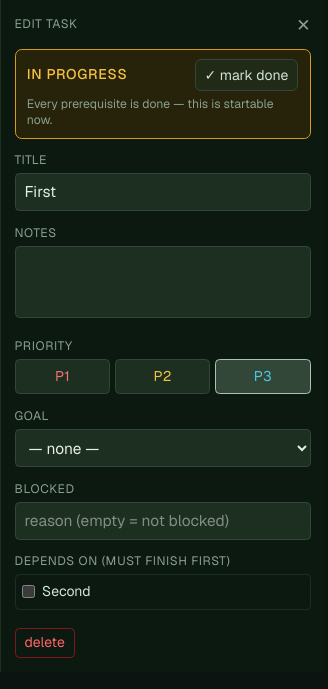
Test: Editor › links a dependency, and refuses one that would cycle
Click the checkbox labelled "Second".
click(29, 592)  # box [22, 586, 35, 598]
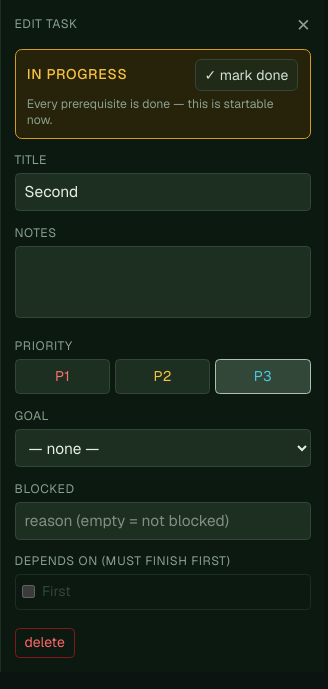
Result: the label titled "would create a dependency cycle" is shown at [22, 582, 71, 600]
Result: the checkbox labelled "First" is disabled at [22, 586, 35, 598]
